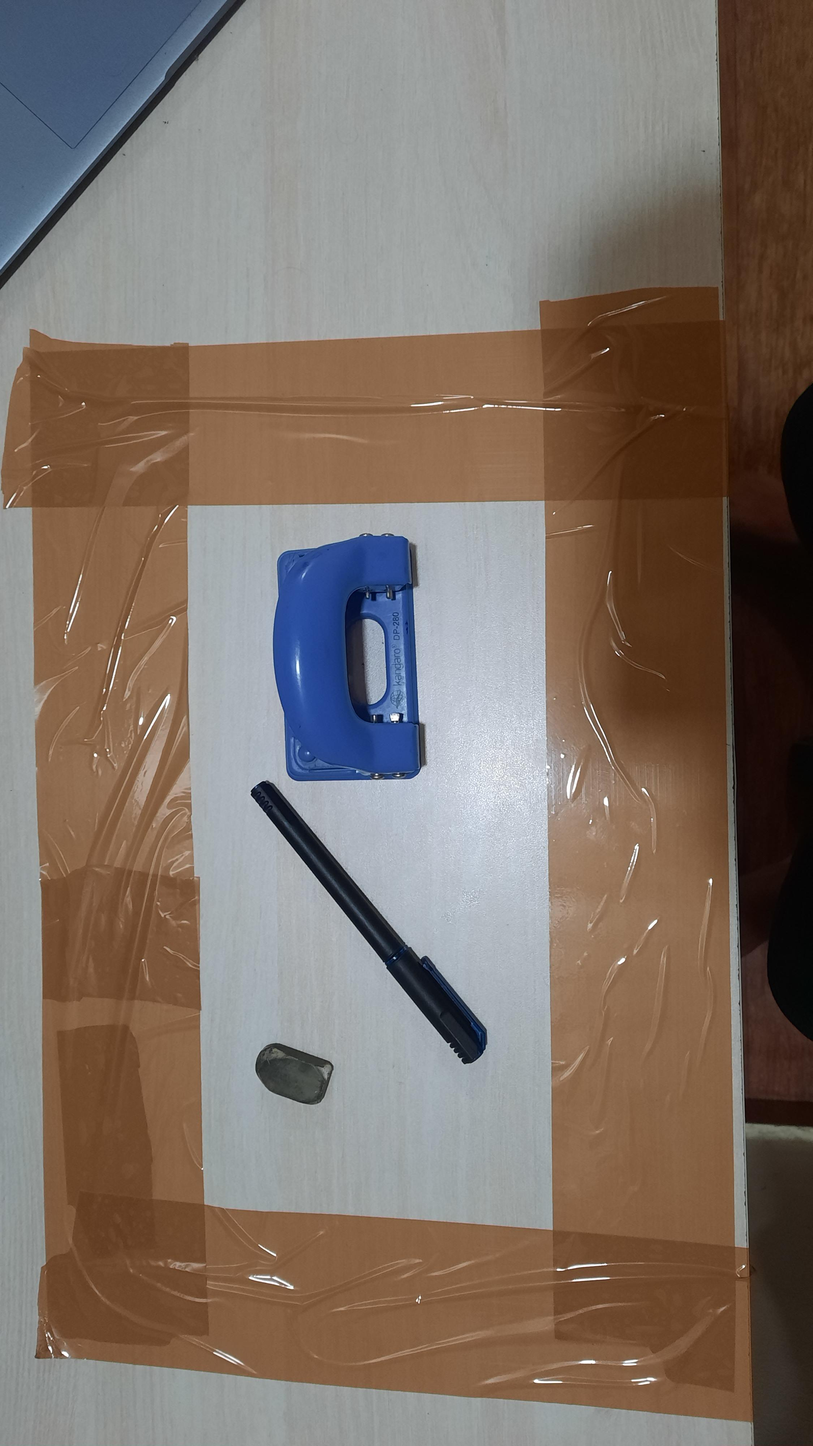Eraser: (254, 1042, 334, 1106)
Pen: (250, 781, 488, 1065)
Punch: (272, 533, 424, 782)
